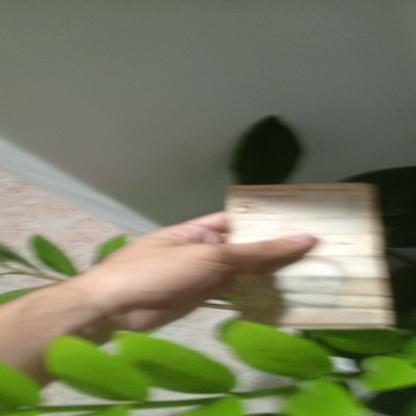five-front-vef: (224, 182, 394, 330)
